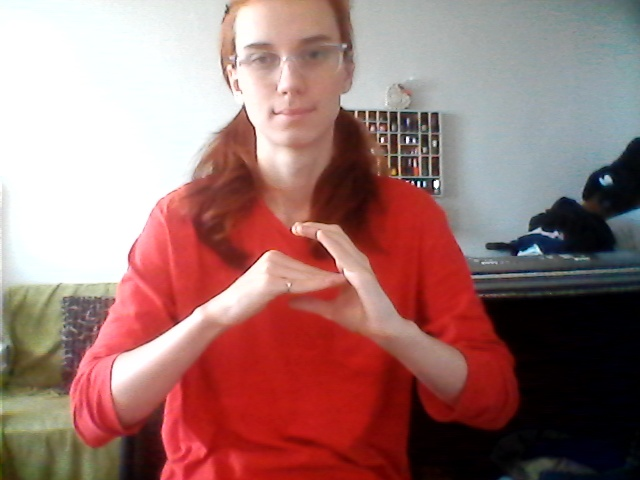e: (225, 216, 393, 349)
